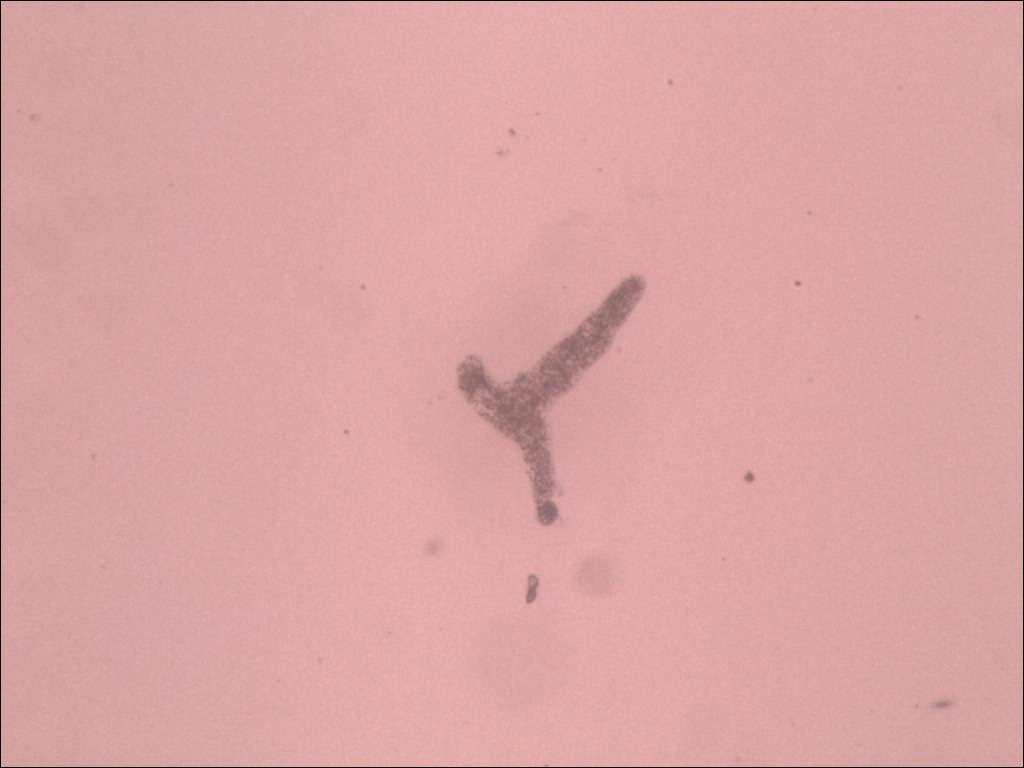amoeba: (448, 266, 666, 533)
